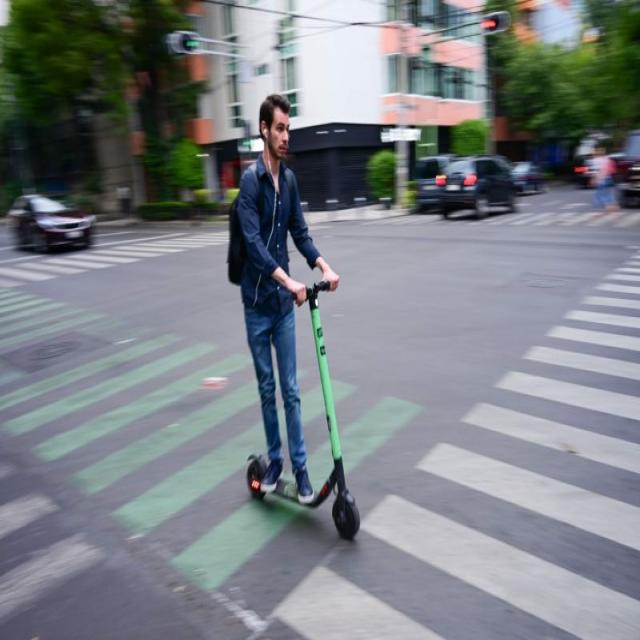non-helmet: (208, 71, 371, 559)
